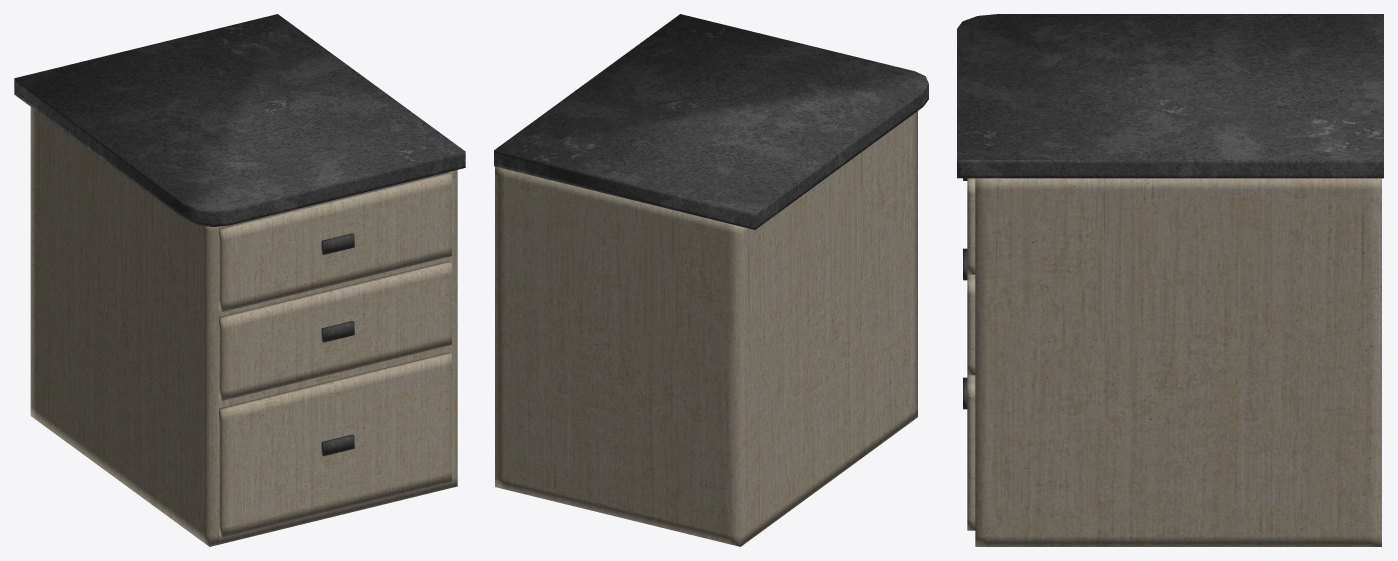
The model's file is cabinet.low.l.fbx.
The picture shows the model from 3 angles, left to right: view 1: azimuth 30°, elevation 25°; view 2: azimuth 150°, elevation 25°; view 3: azimuth 270°, elevation 25°; orthographic projection. The views are drawn at different scales.
Visible parts, largest first — view 1: Base, Cube, Drawer.001, Drawer.003, Drawer.002; view 2: Base, Cube; view 3: Base, Cube, Drawer.001, Drawer.002, Drawer.003.
Boxes of the visible parts, left/top/right/bottom form: Base: left=30, top=107, right=457, bottom=546; Cube: left=14, top=14, right=465, bottom=226; Drawer.001: left=219, top=352, right=451, bottom=537; Drawer.003: left=219, top=172, right=451, bottom=311; Drawer.002: left=219, top=261, right=451, bottom=400; Base: left=495, top=111, right=917, bottom=546; Cube: left=494, top=14, right=928, bottom=229; Base: left=975, top=178, right=1381, bottom=546; Cube: left=957, top=14, right=1383, bottom=178; Drawer.001: left=967, top=375, right=975, bottom=530; Drawer.002: left=967, top=274, right=975, bottom=375; Drawer.003: left=967, top=178, right=975, bottom=274.
Bounding box in the file's own units: 85 × 105 × 105.
